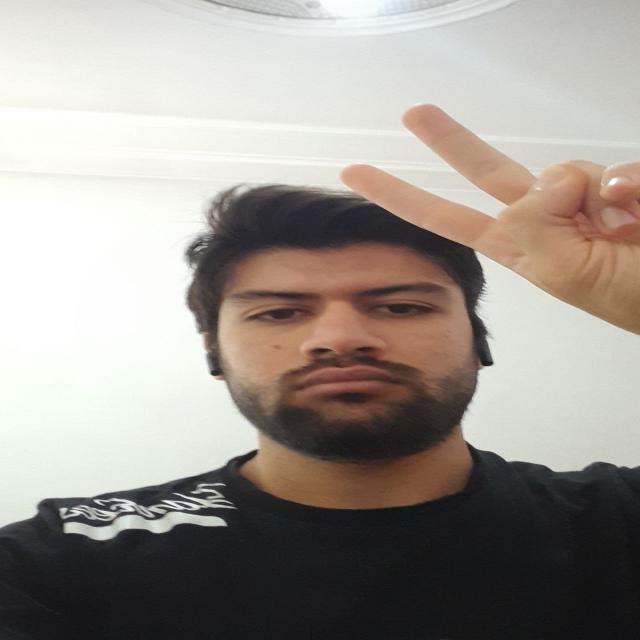Head: (182, 184, 496, 464)
Two: (333, 100, 640, 330)
